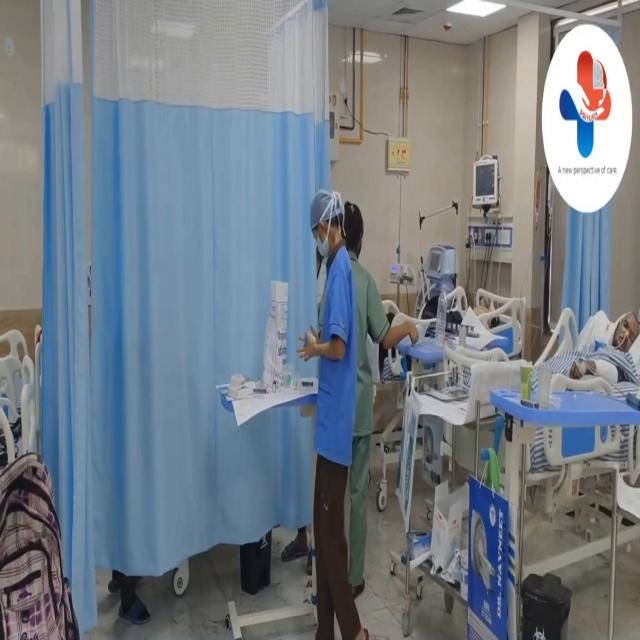Movement-NO: (561, 283, 640, 421)
